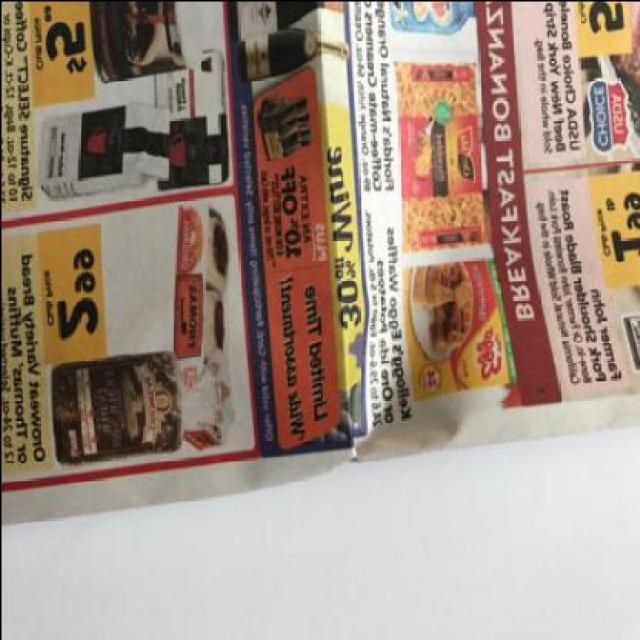PAPER: (0, 1, 638, 523)
